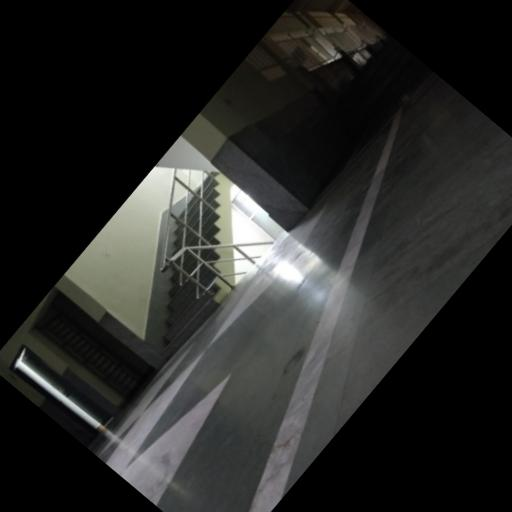stairs: (343, 37, 426, 124), (164, 268, 229, 358)
